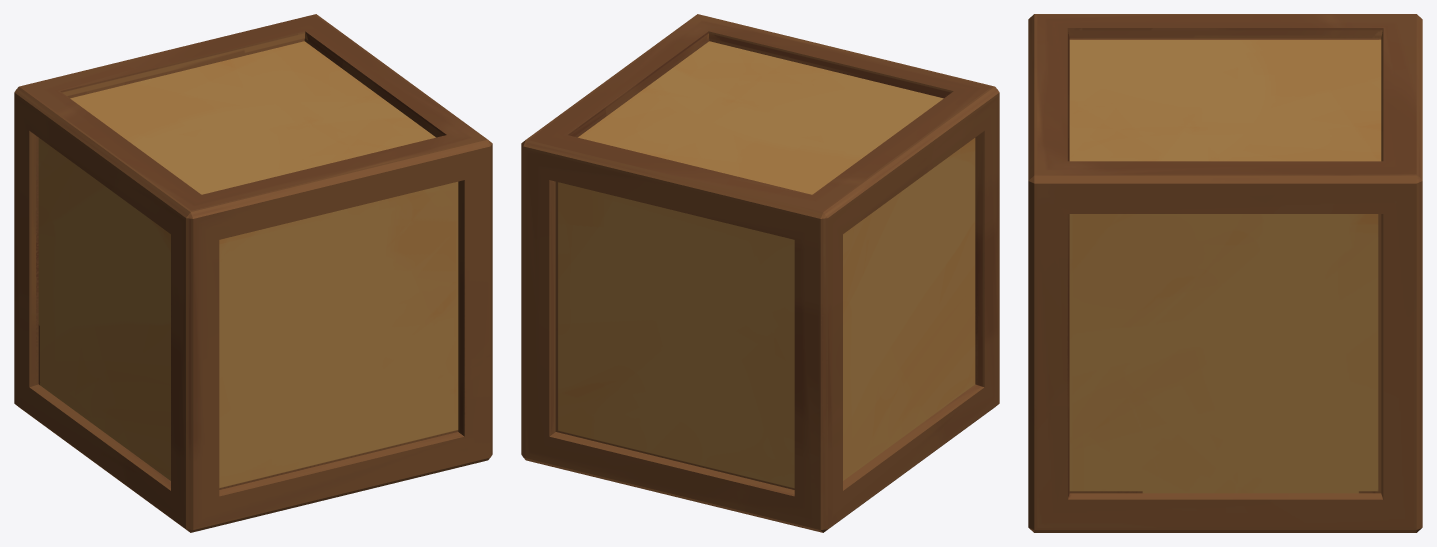
Rendered from Crate.fbx.
3 views of the same model, side by side, from view 1: azimuth 30°, elevation 25°; view 2: azimuth 150°, elevation 25°; view 3: azimuth 270°, elevation 25° (orthographic). The views are drawn at different scales.
Visible parts, largest first — view 1: Cube; view 2: Cube; view 3: Cube.
Part boxes in pixels (x1=…): Cube: x1=14, y1=14, x2=492, y2=532; Cube: x1=521, y1=14, x2=999, y2=532; Cube: x1=1028, y1=14, x2=1422, y2=532.
Size of the model in its own units: 200 by 200 by 200.
